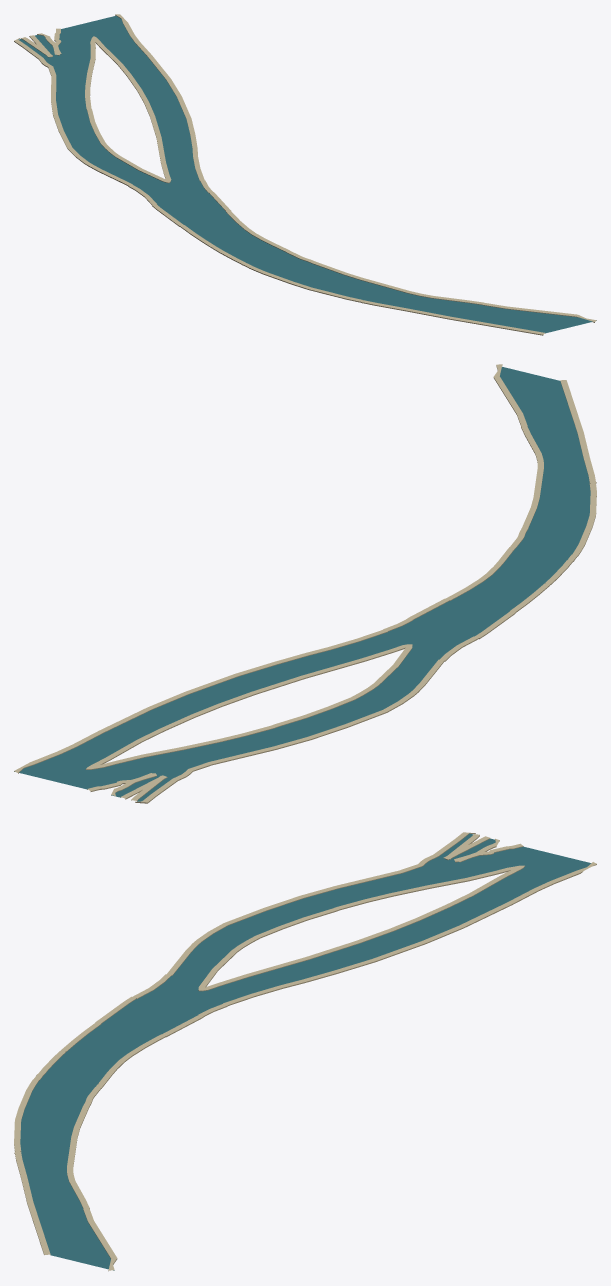
File: water.glb
The picture shows the model from 3 angles, top to bottom: view 1: azimuth 30°, elevation 25°; view 2: azimuth 150°, elevation 25°; view 3: azimuth 330°, elevation 25°; orthographic projection. The views are drawn at different scales.
Parts seen in each view (by area): view 1: river, quays; view 2: river, quays; view 3: river, quays.
Boxes of the visible parts, box(x1,y1,x2,y2) form: river: box(18, 16, 596, 333); quays: box(14, 14, 596, 335); river: box(14, 366, 590, 801); quays: box(14, 364, 596, 803); river: box(20, 833, 591, 1270); quays: box(14, 832, 596, 1271).
Size of the model in its own units: 2021 by 7.5 by 6826.
